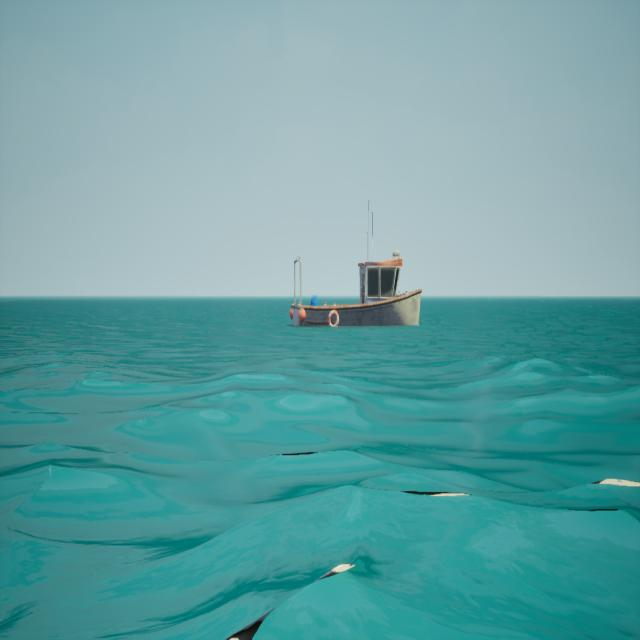ship: (288, 201, 427, 338)
